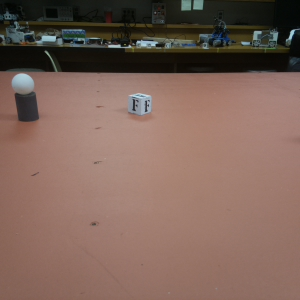blockF: (127, 91, 152, 117)
obstacle: (12, 74, 40, 123)
